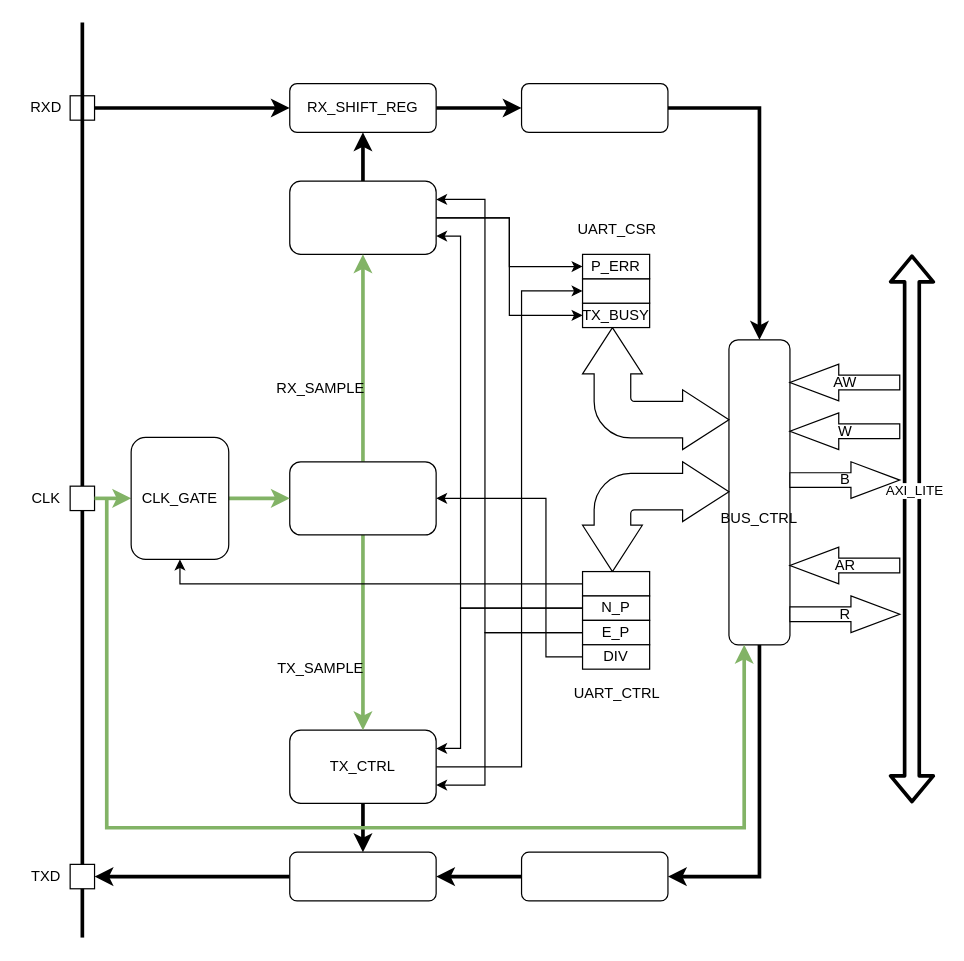
Image size: 964x961. Some labels were removed from this diagram. Each missing label, with the centre of its shape:
"BR_GEN" goes at pixel 362 498.
"CLK_EN" goes at pixel 615 583.
"DATA_REG_RX" goes at pixel 594 107.
"DATA_REG_TX" goes at pixel 594 876.
"RX_BUSY" goes at pixel 615 290.
"RX_CTRL" goes at pixel 362 217.
"TX_SHIFT_REG" goes at pixel 362 876.
